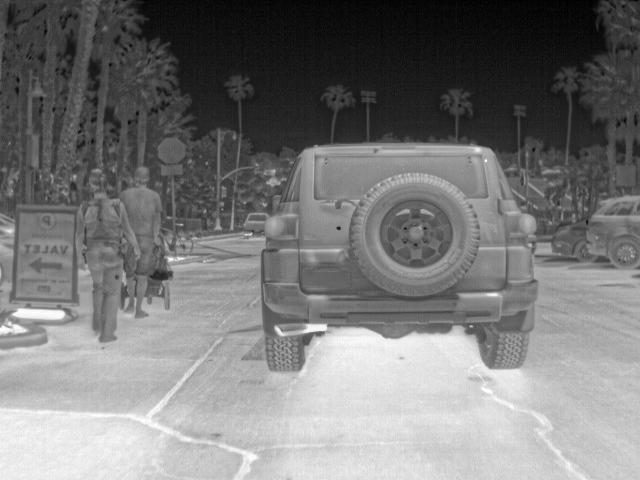car: (267, 139, 541, 369), (587, 194, 640, 270), (552, 214, 596, 262), (244, 213, 266, 235)
person: (76, 168, 136, 340), (119, 165, 165, 317)
